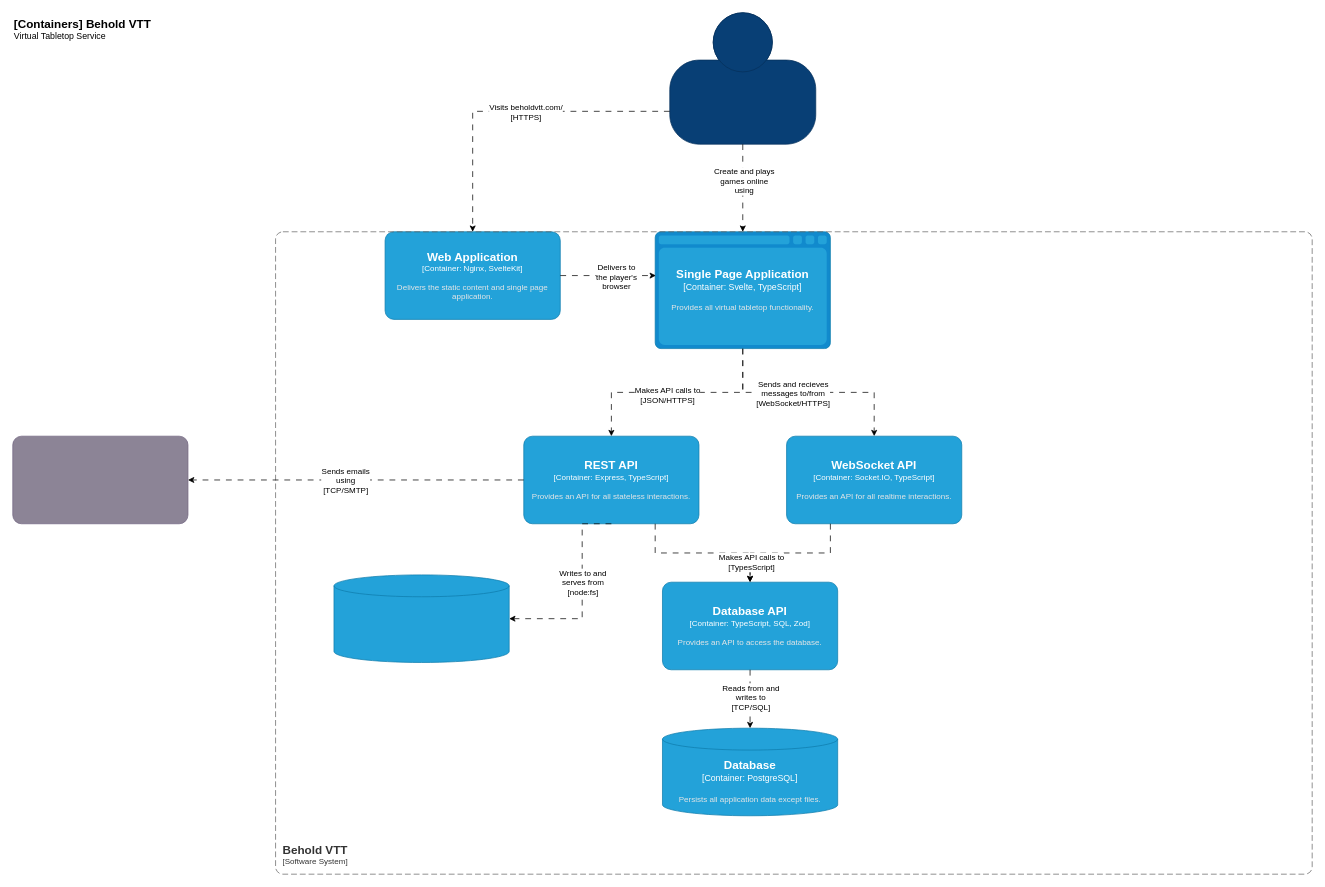
Some shapes in this 1325 by 887 pixel diagram are drawn without their labels. The centre of each missing label's shape, as x and y in pixels:
Filesytem [Container: Filesystem] Stores uploaded assets.: (421,618)
Player [Person] People who create and join games to play online together.: (742,78)
SMTP Server [Software System] Email service, as configfured.: (100,479)
